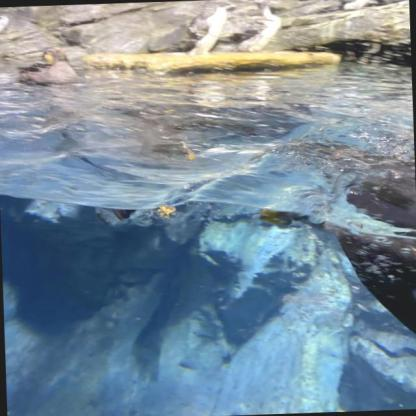puffin: (20, 45, 82, 88)
